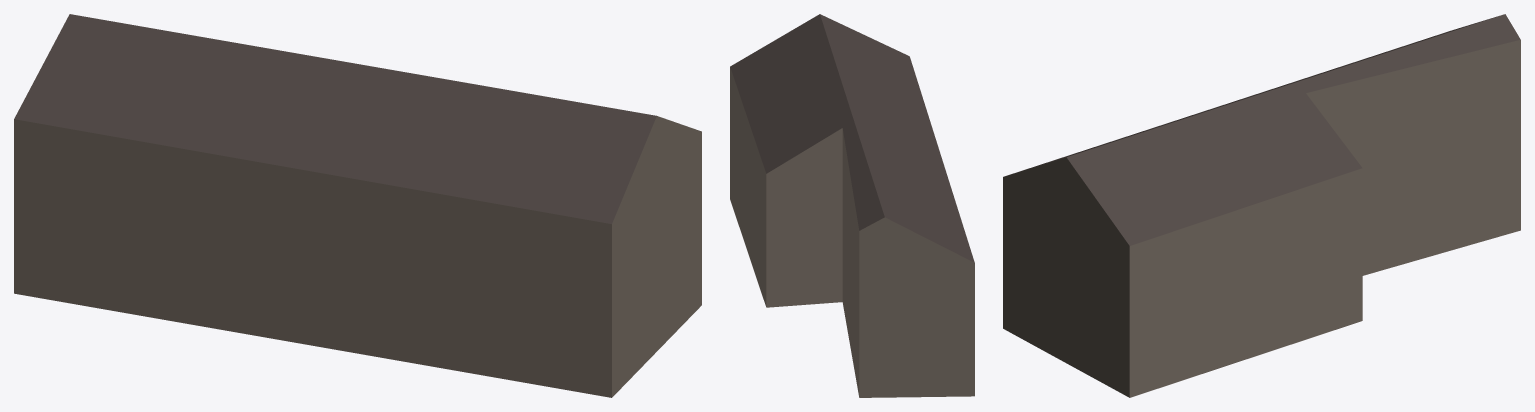
3 renders of one model, left to right at view 1: azimuth 30°, elevation 25°; view 2: azimuth 150°, elevation 25°; view 3: azimuth 270°, elevation 25°, orthographic. The views are drawn at different scales.
Parts seen in each view (by area): view 1: HP-w1512468505; view 2: HP-w1512468505; view 3: HP-w1512468505.
Boxes of the visible parts, box(x1,y1,x2,y2) form: HP-w1512468505: box(14, 14, 701, 397); HP-w1512468505: box(730, 14, 974, 397); HP-w1512468505: box(1003, 14, 1520, 397).
Size of the model in its own units: 18.21 by 8.14 by 18.54.
